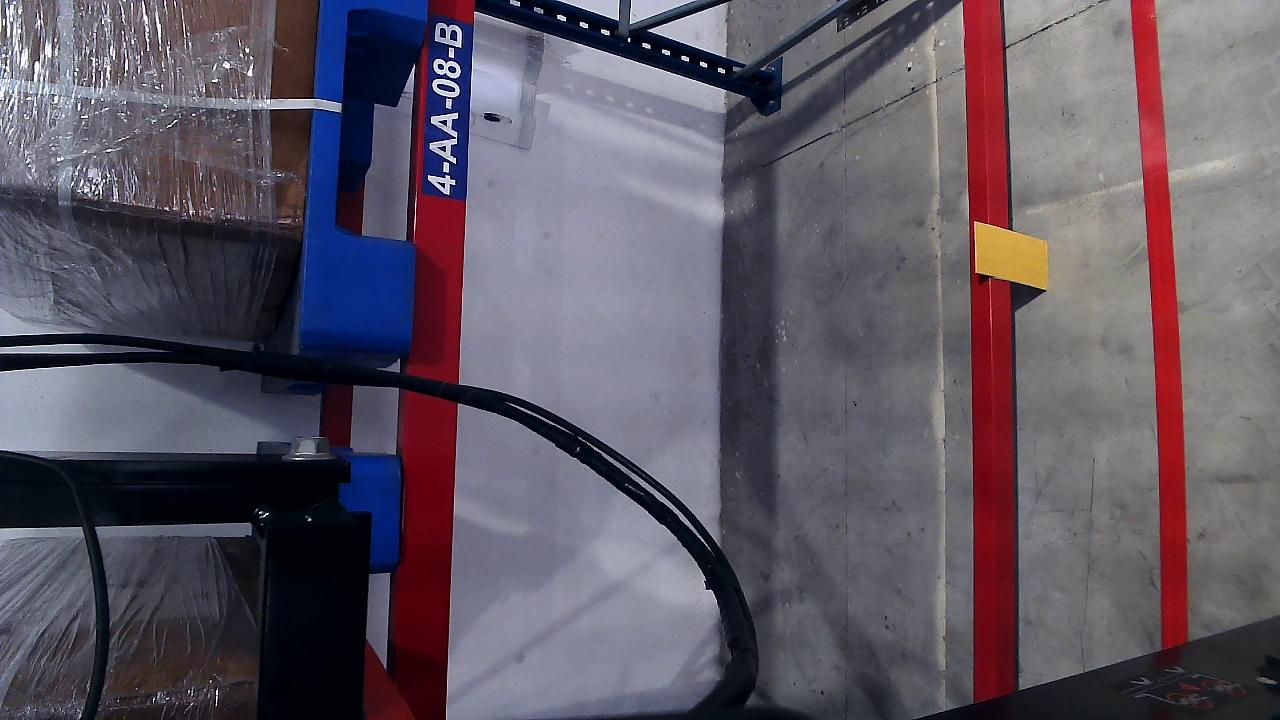h_rack: (963, 0, 1014, 698), (428, 0, 469, 719)
orange_strip: (971, 222, 1048, 288)
red_line: (1128, 0, 1189, 645)
small_pallet: (294, 3, 428, 343)
